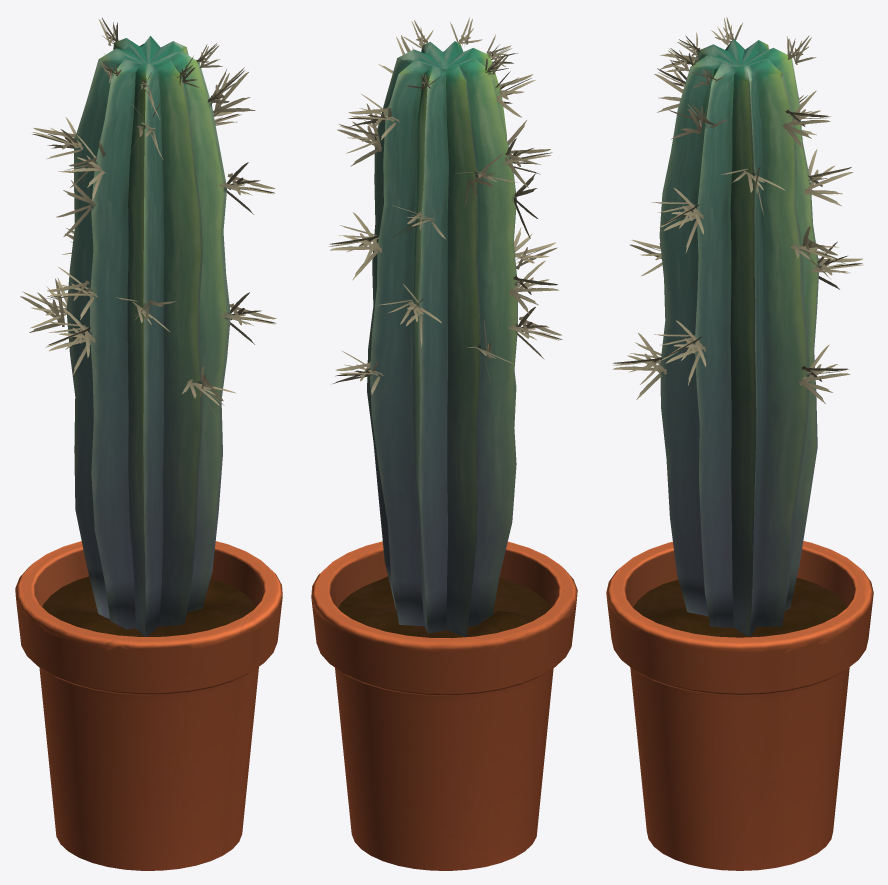
Rendered from Cactus_1.fbx.
3 renders of one model, left to right at view 1: azimuth 30°, elevation 25°; view 2: azimuth 150°, elevation 25°; view 3: azimuth 270°, elevation 25°, orthographic.
Visible parts, largest first — view 1: Cylinder; view 2: Cylinder; view 3: Cylinder.
Boxes of the visible parts, left/top/right/bottom form: Cylinder: left=15, top=18, right=282, bottom=870; Cylinder: left=311, top=17, right=577, bottom=870; Cylinder: left=606, top=17, right=873, bottom=870.
Bounding box in the file's own units: 19.92 × 65.28 × 19.92.
Materials: 1 (1 with a texture image).
